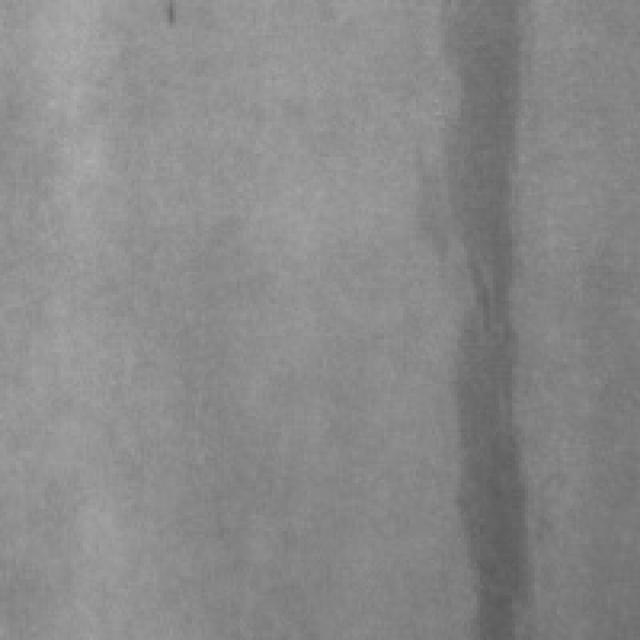inclusion: (435, 0, 544, 634)
